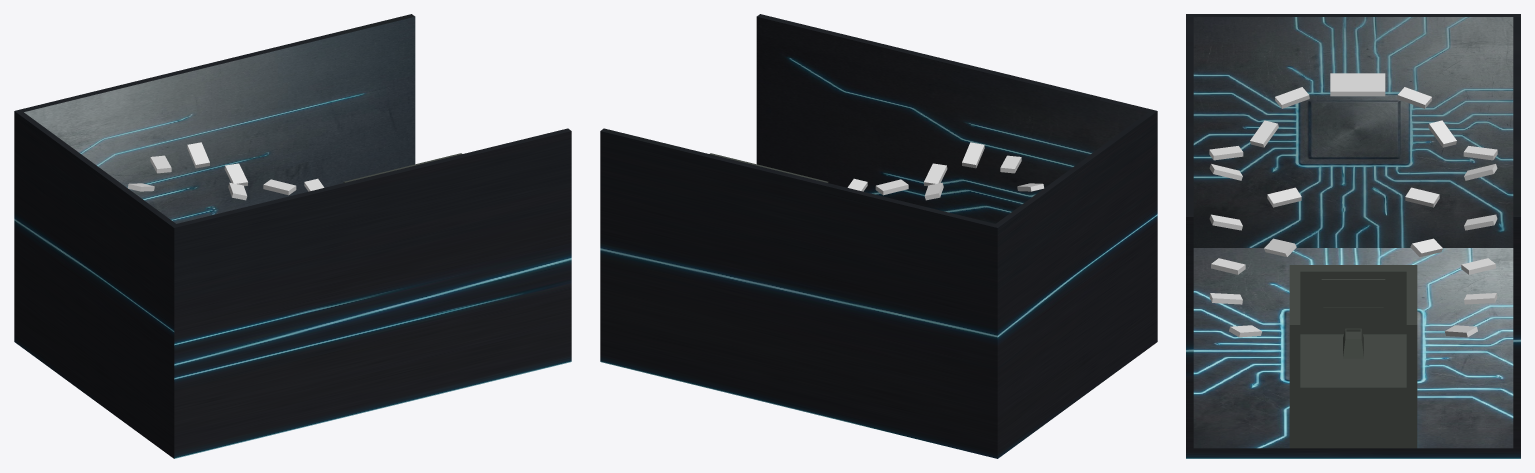
The model's file is m1Sahne.fbx.
3 views of the same model, side by side, from view 1: azimuth 30°, elevation 25°; view 2: azimuth 150°, elevation 25°; view 3: azimuth 270°, elevation 25° (orthographic). The views are drawn at different scales.
Visible parts, largest first — view 1: AnaDuvar, basamaklar; view 2: AnaDuvar, basamaklar; view 3: AnaDuvar, GirisM1, basamaklar, YıldızBasamagı, MekanikBloguM1.
Boxes of the visible parts, x1,y1,x2,y2 form: AnaDuvar: [14, 14, 571, 458]; basamaklar: [128, 142, 324, 200]; AnaDuvar: [600, 14, 1157, 458]; basamaklar: [847, 142, 1043, 200]; AnaDuvar: [1186, 14, 1520, 458]; GirisM1: [1289, 265, 1417, 448]; basamaklar: [1209, 87, 1497, 337]; YıldızBasamagı: [1330, 73, 1385, 96]; MekanikBloguM1: [1343, 328, 1363, 358].
Bounding box in the file's own units: 1467 × 814 × 1022.
